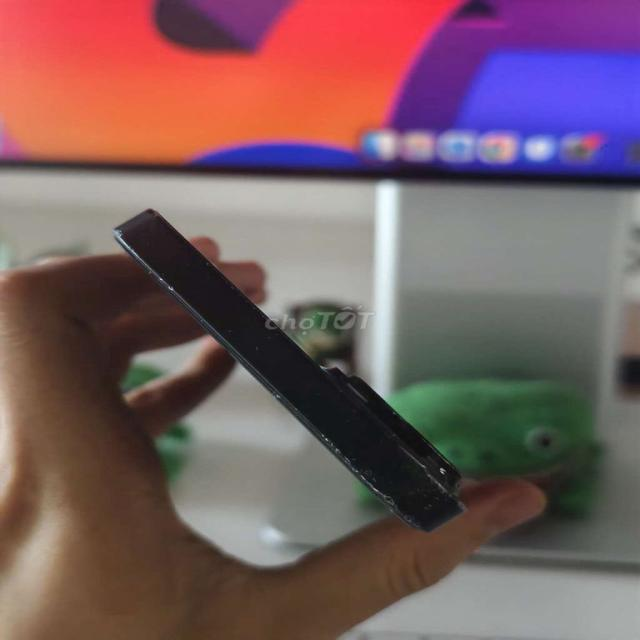gen_14: (101, 190, 472, 543)
scratch: (294, 427, 472, 540), (111, 215, 174, 292), (196, 251, 259, 303)
